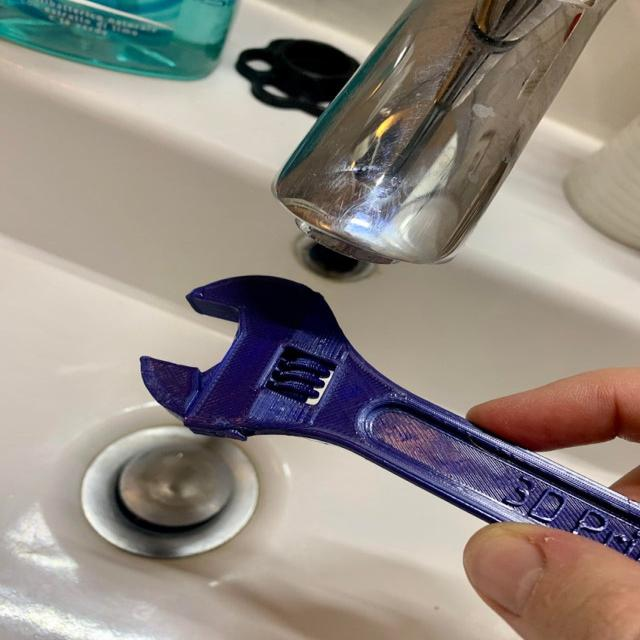Without deffect: (102, 274, 640, 594)
